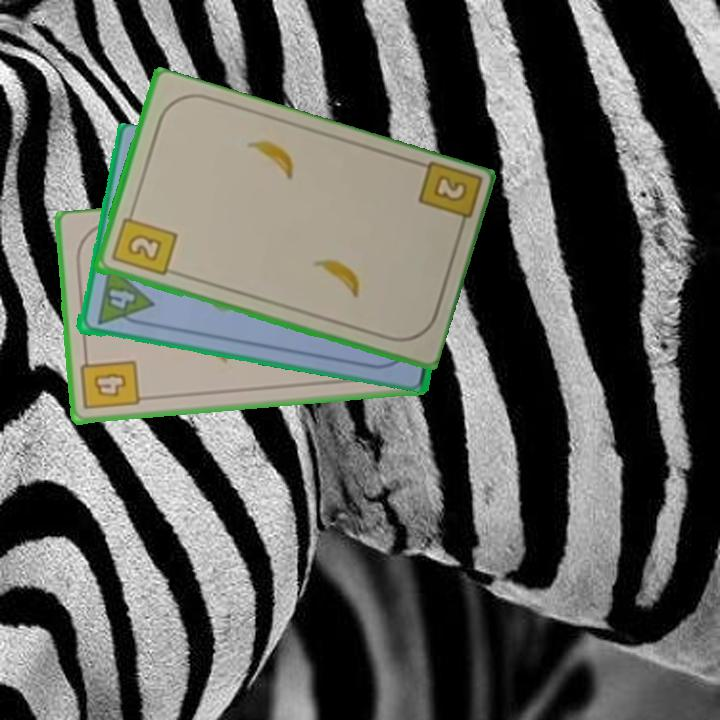2b: (414, 159, 481, 237), (108, 206, 179, 279)
4b: (78, 350, 142, 413)
4p: (92, 263, 155, 330)
